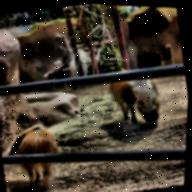boar: (93, 53, 180, 146), (0, 107, 68, 184)
